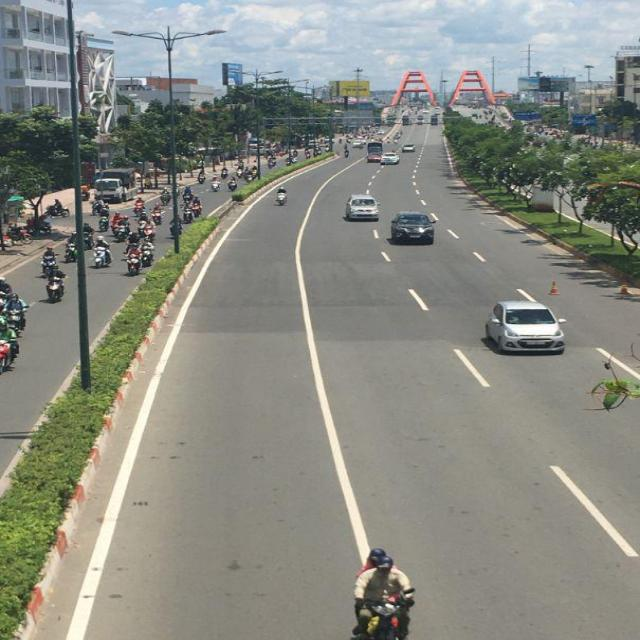bus: (368, 143, 383, 164)
car: (485, 300, 565, 352), (390, 211, 437, 246), (345, 194, 382, 222), (380, 155, 399, 167), (277, 190, 287, 206), (403, 143, 415, 151)
motorcycle: (47, 276, 66, 304), (125, 245, 142, 274), (94, 248, 111, 268)
truck: (95, 167, 140, 206)
